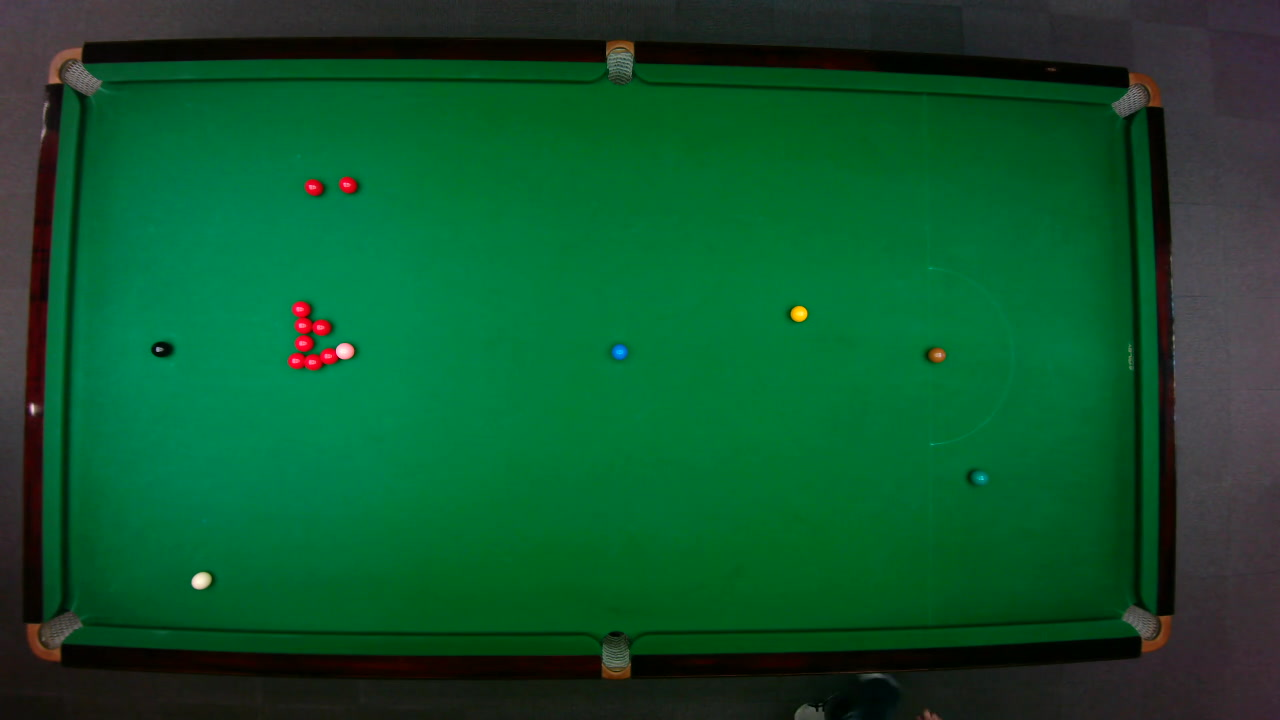bag: (25, 609, 83, 662), (46, 46, 102, 96), (1119, 603, 1172, 652), (1108, 71, 1161, 118), (600, 629, 629, 680), (605, 38, 633, 85)
black: (149, 340, 171, 357)
blue: (610, 342, 628, 360)
brown: (926, 346, 946, 362)
green: (968, 468, 989, 485)
pink: (334, 341, 355, 360)
red: (302, 177, 324, 196), (337, 174, 358, 193), (290, 299, 311, 317), (310, 317, 331, 335), (318, 346, 337, 365), (303, 352, 323, 370), (293, 334, 313, 352), (286, 351, 305, 369), (292, 317, 312, 334)
white: (189, 570, 213, 589)
yellow: (788, 304, 808, 322)
zone: (927, 266, 1014, 445)
